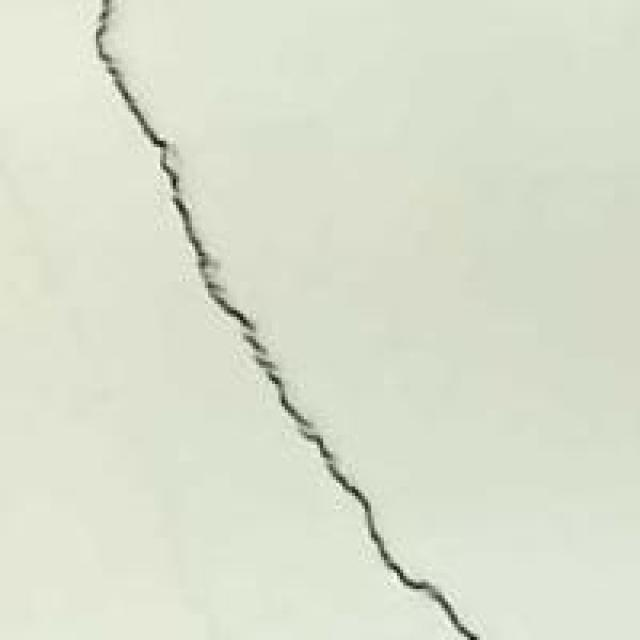Crack: (90, 6, 487, 636)
